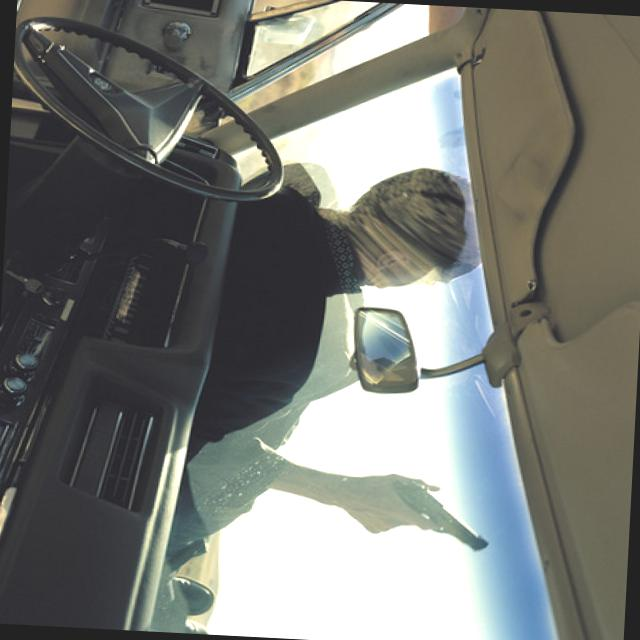handgun: (356, 471, 495, 554)
